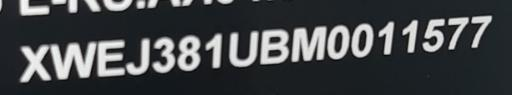letter: (49, 37, 99, 82), (287, 21, 331, 66), (14, 40, 54, 87), (92, 34, 132, 79), (256, 24, 292, 71), (226, 24, 262, 71), (123, 31, 155, 78), (150, 30, 180, 77), (175, 30, 205, 75), (324, 20, 354, 63), (466, 10, 496, 51), (419, 13, 449, 54), (200, 28, 228, 71), (442, 13, 472, 52), (348, 19, 376, 60), (397, 15, 423, 56), (374, 18, 400, 57)
